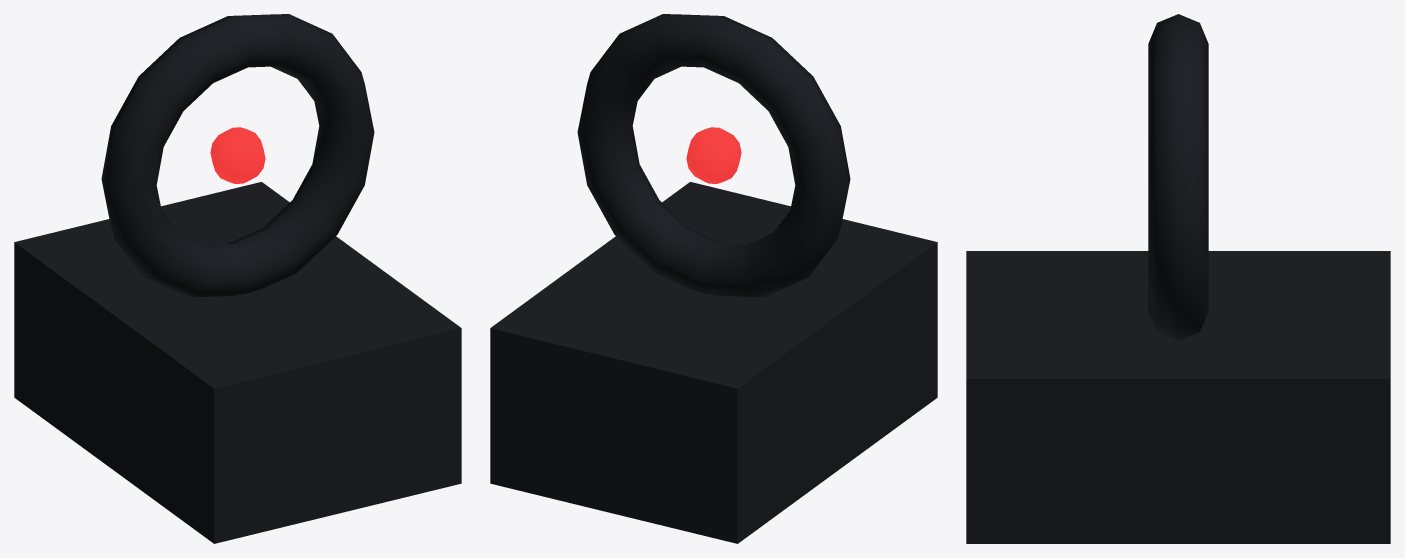
The model's file is attachment_assault_reddot.glb.
3 renders of one model, left to right at view 1: azimuth 30°, elevation 25°; view 2: azimuth 150°, elevation 25°; view 3: azimuth 270°, elevation 25°, orthographic. The views are drawn at different scales.
Parts seen in each view (by area): view 1: attachment_assault_reddot__part_1, attachment_assault_reddot__part_2, attachment_assault_reddot__part_3; view 2: attachment_assault_reddot__part_1, attachment_assault_reddot__part_2, attachment_assault_reddot__part_3; view 3: attachment_assault_reddot__part_1, attachment_assault_reddot__part_2.
Part boxes in pixels (left/top/right/bottom): attachment_assault_reddot__part_1: left=14, top=182, right=461, bottom=543; attachment_assault_reddot__part_2: left=101, top=14, right=374, bottom=297; attachment_assault_reddot__part_3: left=210, top=127, right=265, bottom=183; attachment_assault_reddot__part_1: left=490, top=182, right=937, bottom=543; attachment_assault_reddot__part_2: left=577, top=14, right=850, bottom=297; attachment_assault_reddot__part_3: left=686, top=127, right=741, bottom=183; attachment_assault_reddot__part_1: left=966, top=251, right=1390, bottom=543; attachment_assault_reddot__part_2: left=1148, top=14, right=1208, bottom=340.
Bounding box in the file's own units: 0.054 × 0.082 × 0.07.
